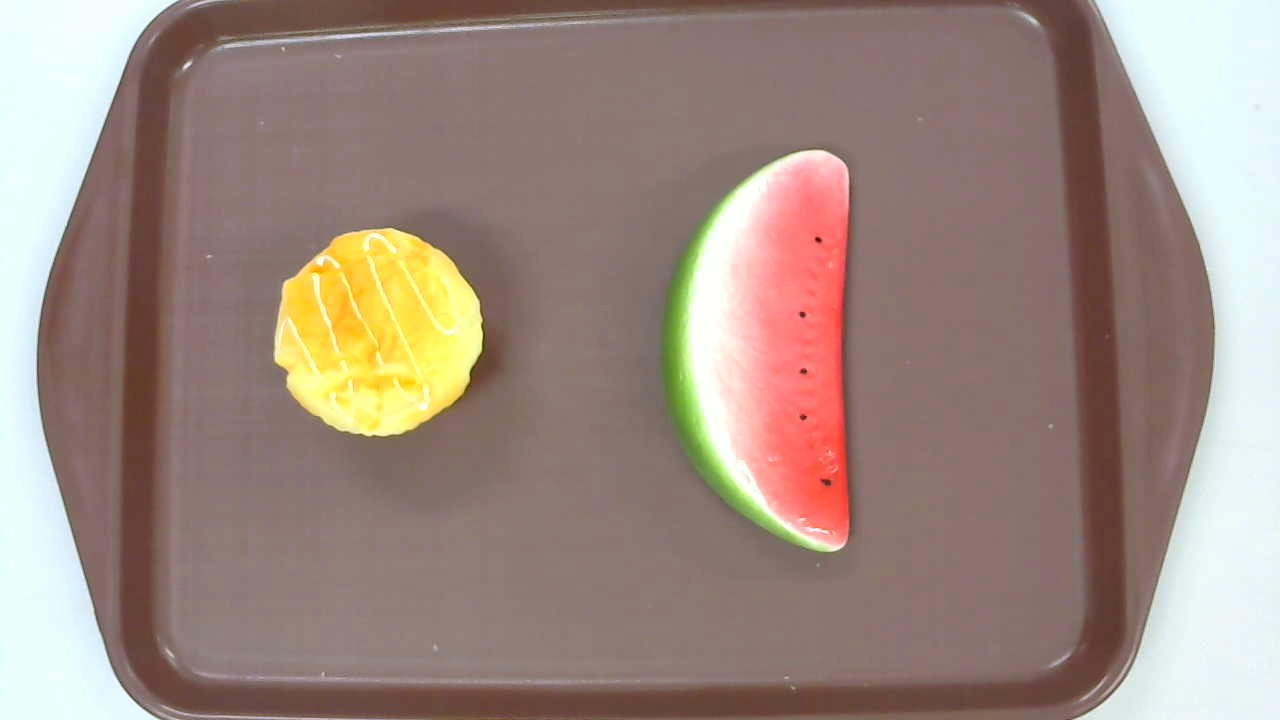cupcake: (272, 228, 483, 438)
water melon: (660, 148, 851, 553)
